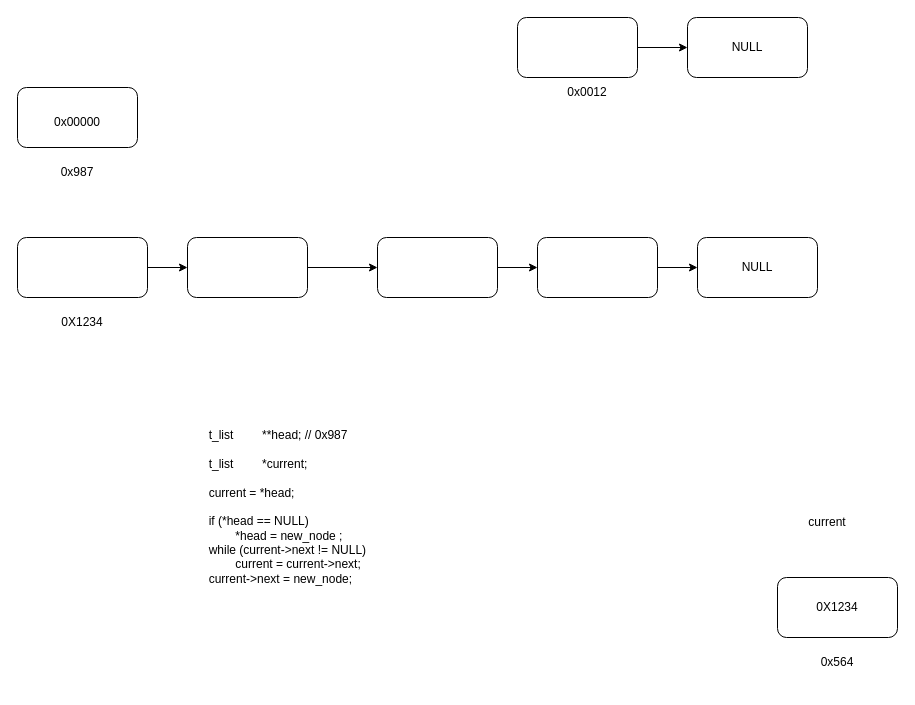
This 915x705 diagram has some shape labels left out. The box of each missing label's shape, as (x1, y1, x2, y2) in pixels:
New node Adress to next: (516, 16, 638, 78)
Value address of next: (16, 236, 148, 298)
